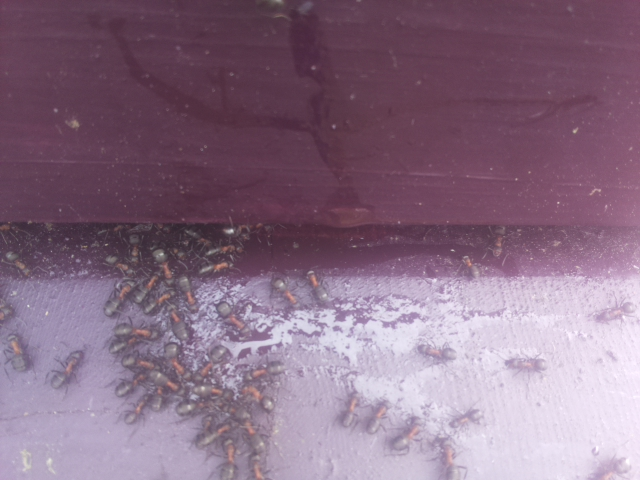ant: (209, 292, 258, 346), (168, 380, 230, 422), (98, 270, 141, 327), (44, 343, 91, 395), (104, 318, 159, 354), (189, 416, 239, 452), (194, 339, 235, 382), (2, 329, 35, 382), (586, 296, 640, 328), (301, 262, 335, 312), (0, 241, 38, 283), (119, 391, 163, 425), (339, 385, 368, 433), (175, 267, 202, 318), (130, 271, 166, 307), (268, 272, 301, 311), (235, 384, 279, 413), (390, 417, 426, 452), (214, 436, 242, 480), (165, 303, 194, 345), (109, 372, 154, 398), (415, 339, 459, 365), (245, 358, 289, 383), (500, 353, 549, 375), (149, 244, 178, 280), (488, 218, 508, 264), (365, 399, 388, 437), (97, 253, 136, 275), (438, 440, 458, 479), (461, 254, 482, 279)
